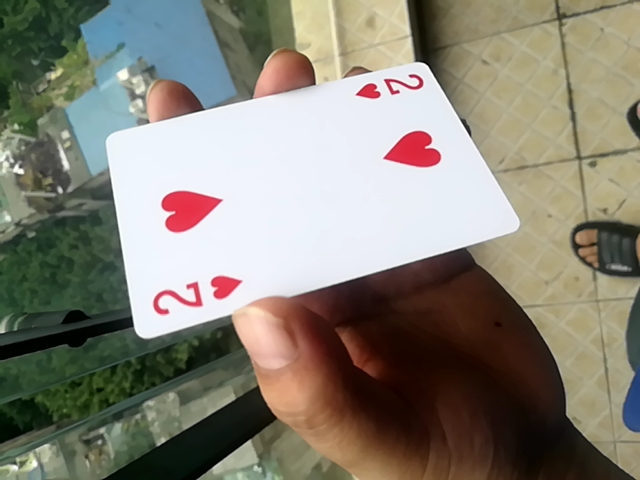hx 2: (106, 61, 522, 344)
